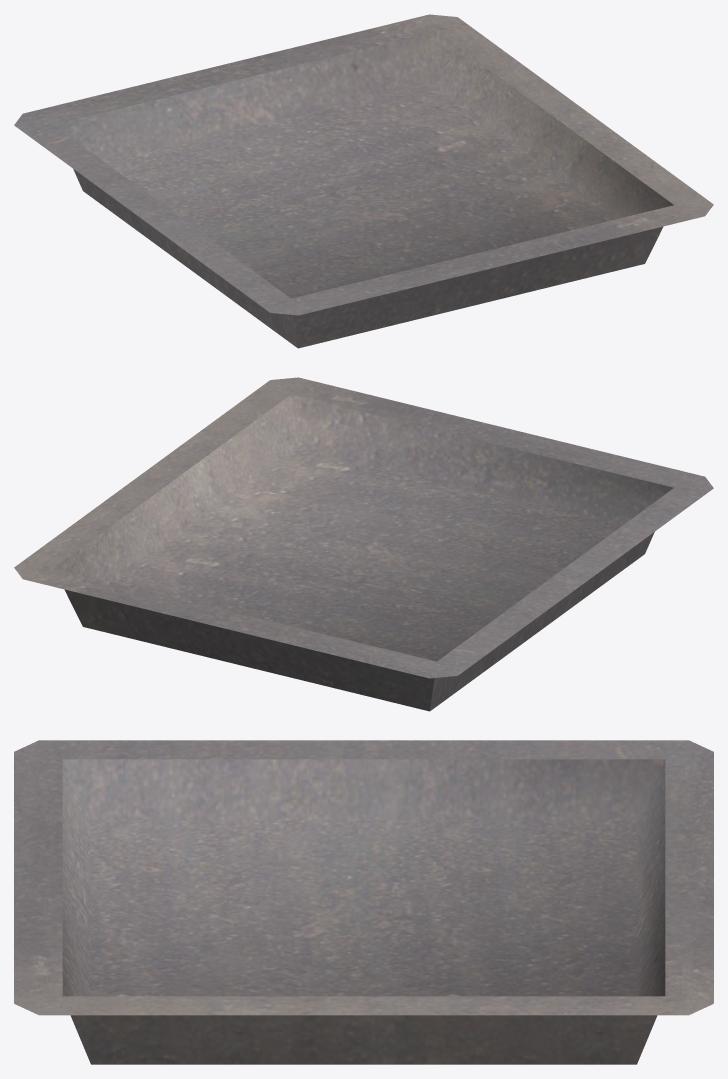
File: M_Home_Garden_KitchenPlate.fbx
3 renders of one model, top to bottom at view 1: azimuth 30°, elevation 25°; view 2: azimuth 150°, elevation 25°; view 3: azimuth 270°, elevation 25°, orthographic. The views are drawn at different scales.
Visible parts, largest first — view 1: M_Home_Garden_KitchenPlate; view 2: M_Home_Garden_KitchenPlate; view 3: M_Home_Garden_KitchenPlate.
Part boxes in pixels (x1,y1,x2,y2): M_Home_Garden_KitchenPlate: (14,14,713,348); M_Home_Garden_KitchenPlate: (14,377,713,711); M_Home_Garden_KitchenPlate: (14,740,713,1064).
Size of the model in its own units: 25.97 by 3.5 by 27.96.
